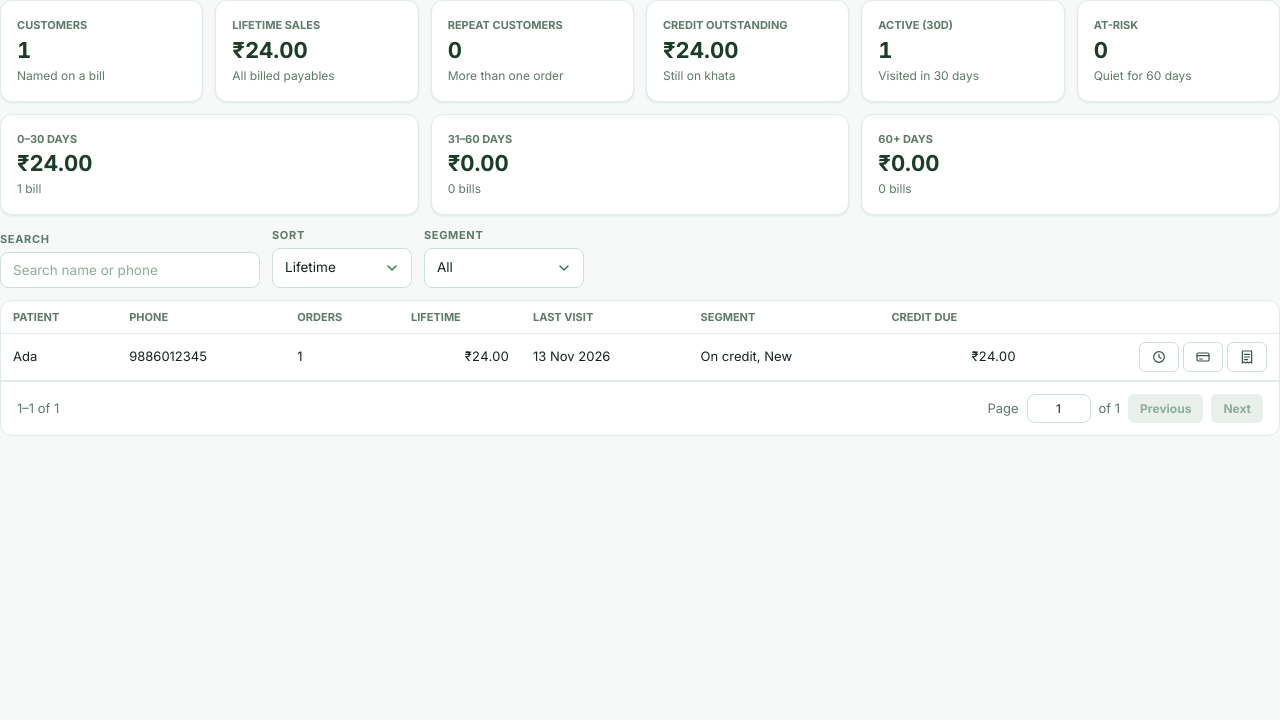
Test: PatientsPage › hides Excel and Collect without patients:update
Expected: the text "Ada" is shown, [1,334,117,381]
Click the button named "Credit for Ada".
click(1203, 357)  # box [1183,342,1223,372]
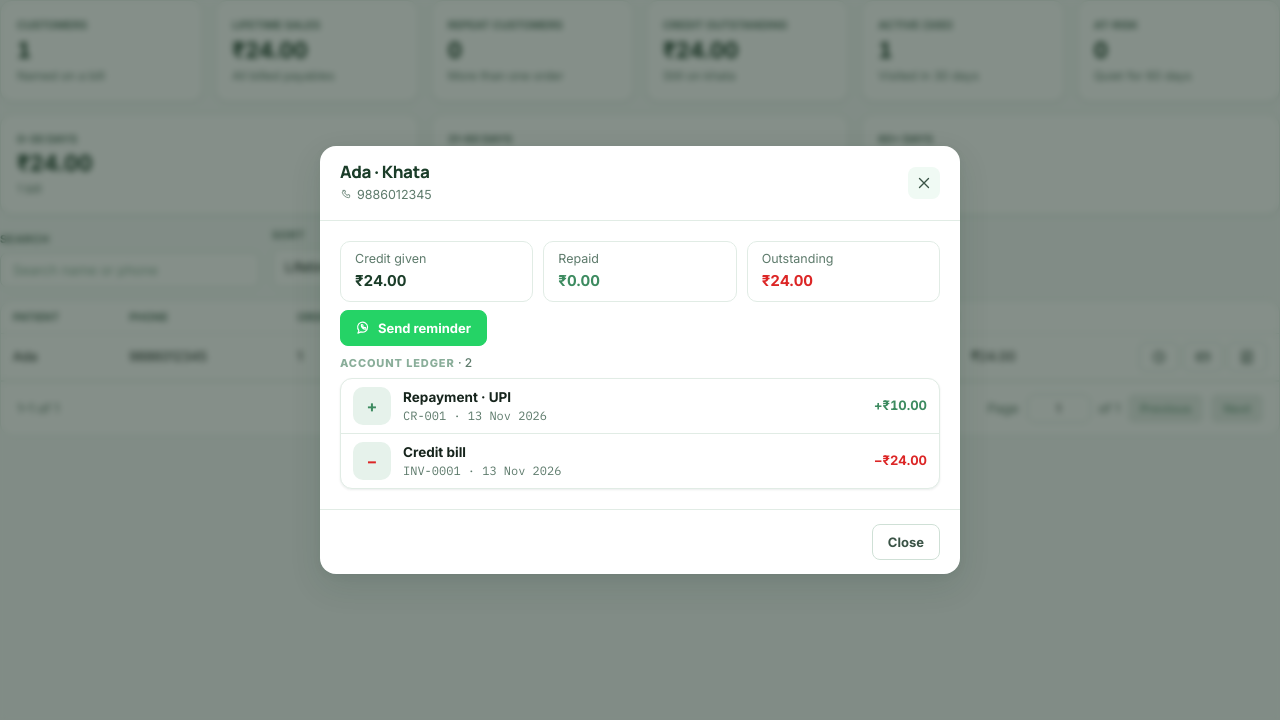
Expected: the dialog named "Credit for Ada" is shown, [320,146,960,574]
